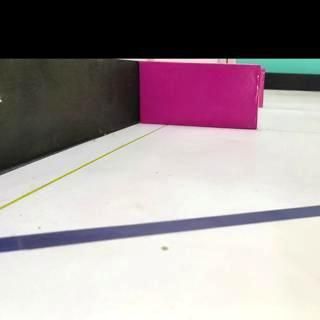xparking: (143, 66, 259, 126)
